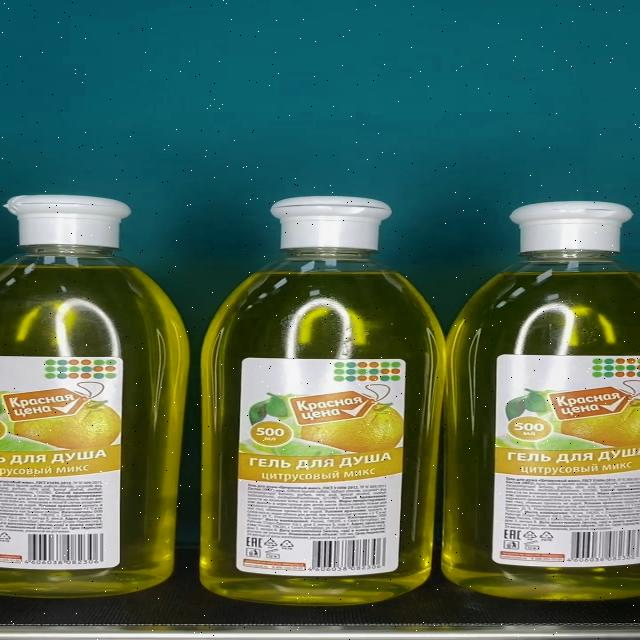Bottle: (200, 196, 447, 605), (444, 202, 640, 602), (0, 195, 189, 598)
Cap: (6, 195, 131, 248), (509, 201, 633, 254), (271, 196, 393, 249)
